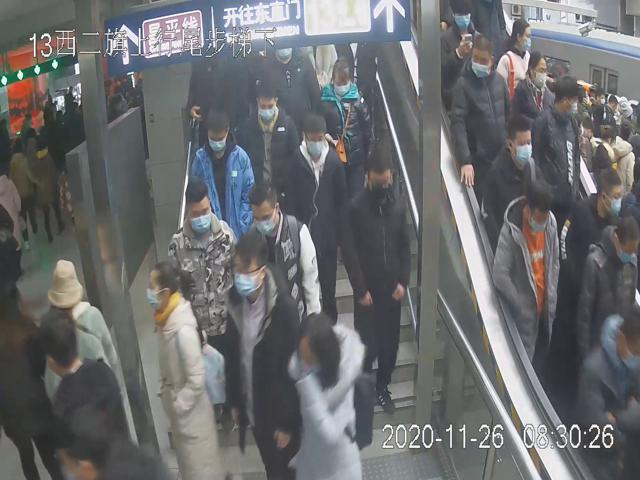person: (337, 144, 411, 418), (224, 232, 300, 480), (165, 177, 241, 404), (145, 259, 223, 480), (285, 111, 348, 330), (243, 176, 323, 320), (449, 31, 511, 200), (186, 106, 258, 242), (319, 52, 377, 202), (483, 110, 537, 255), (235, 79, 299, 200)
